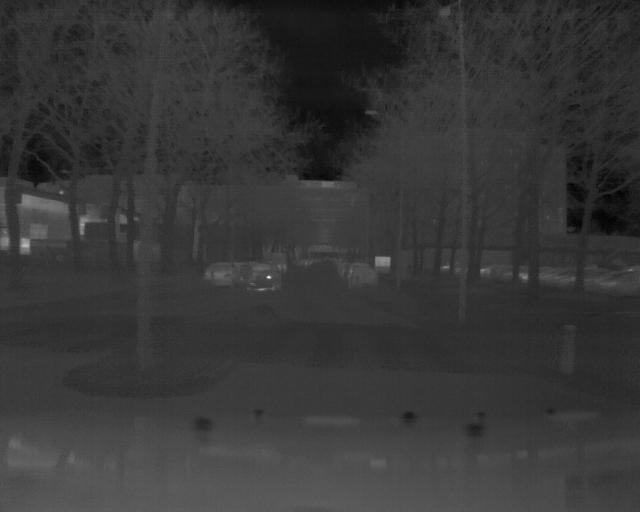car: (237, 262, 283, 294), (203, 260, 241, 288), (345, 262, 380, 287)
